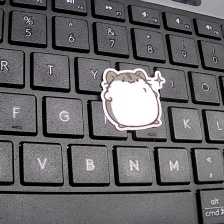mouse: (100, 67, 167, 133)
